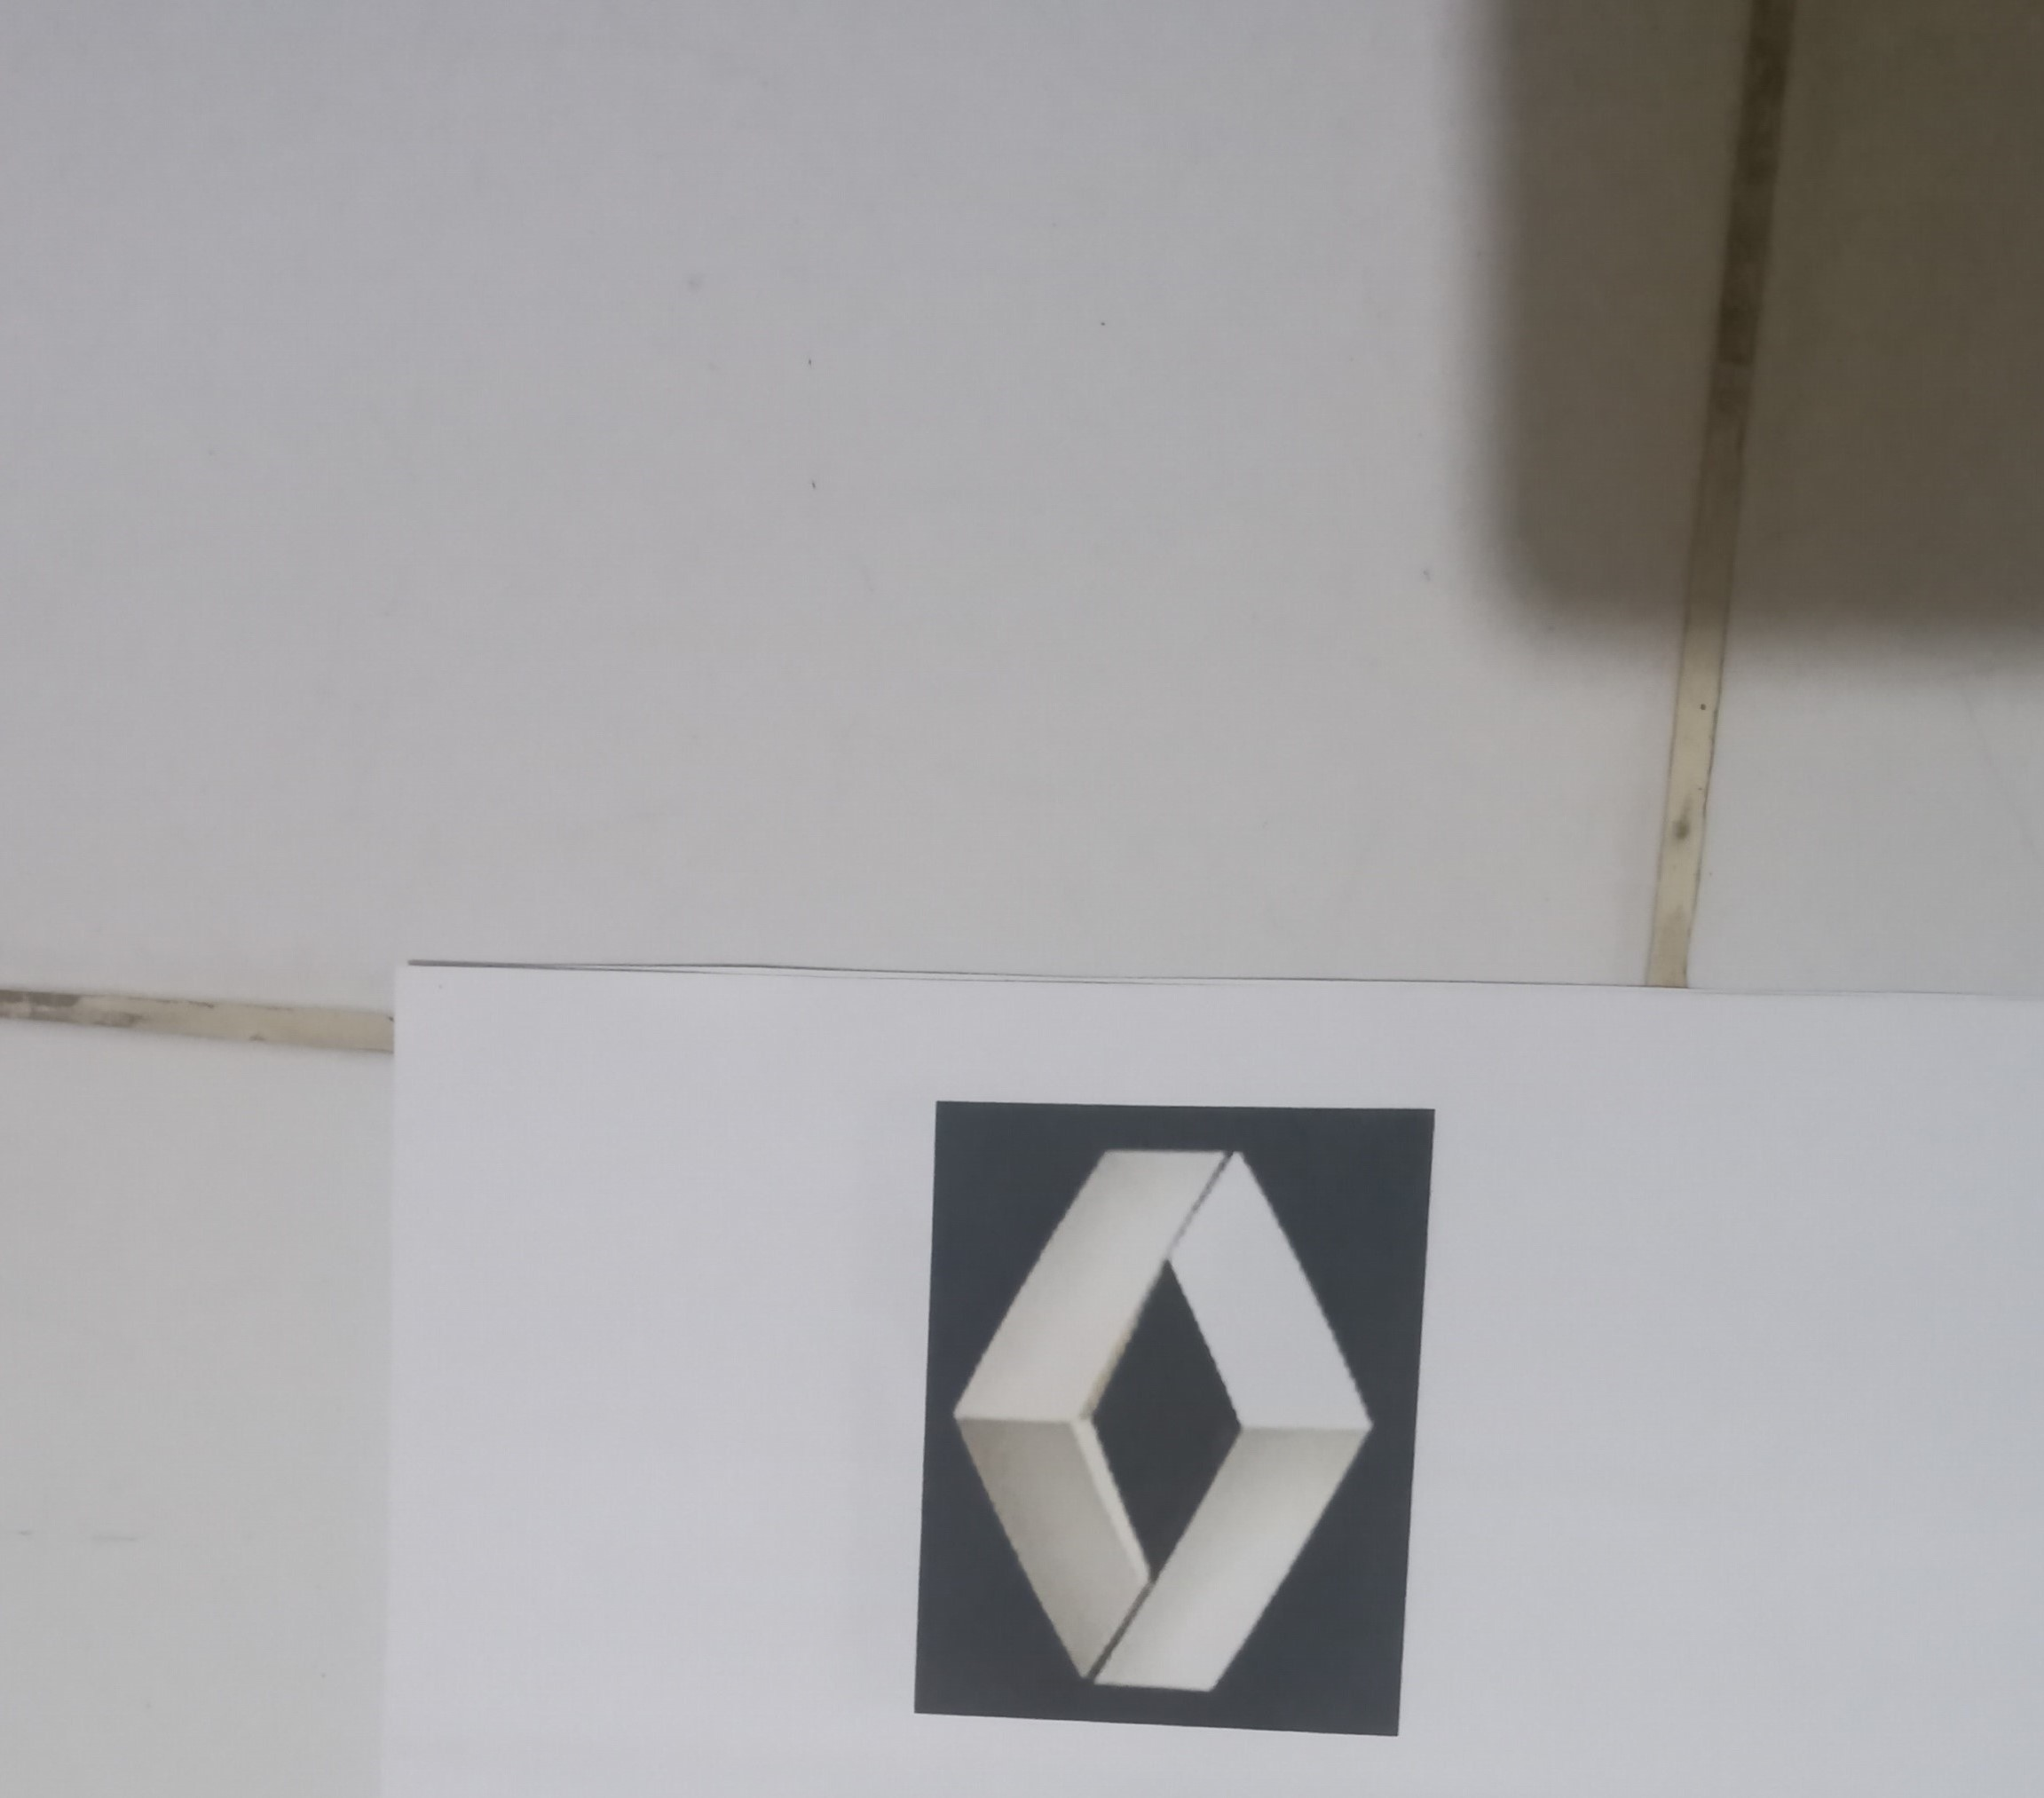Renault: (935, 1120, 1392, 1713)
